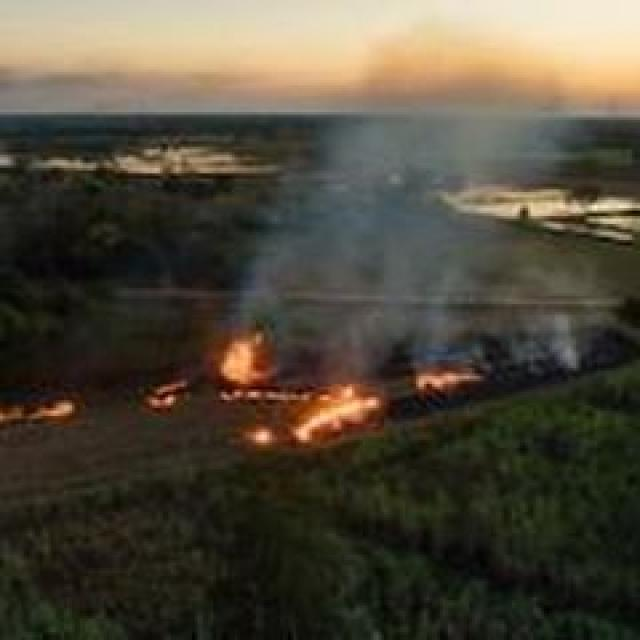Fire: (224, 337, 484, 437)
Smoke: (254, 48, 602, 360)
